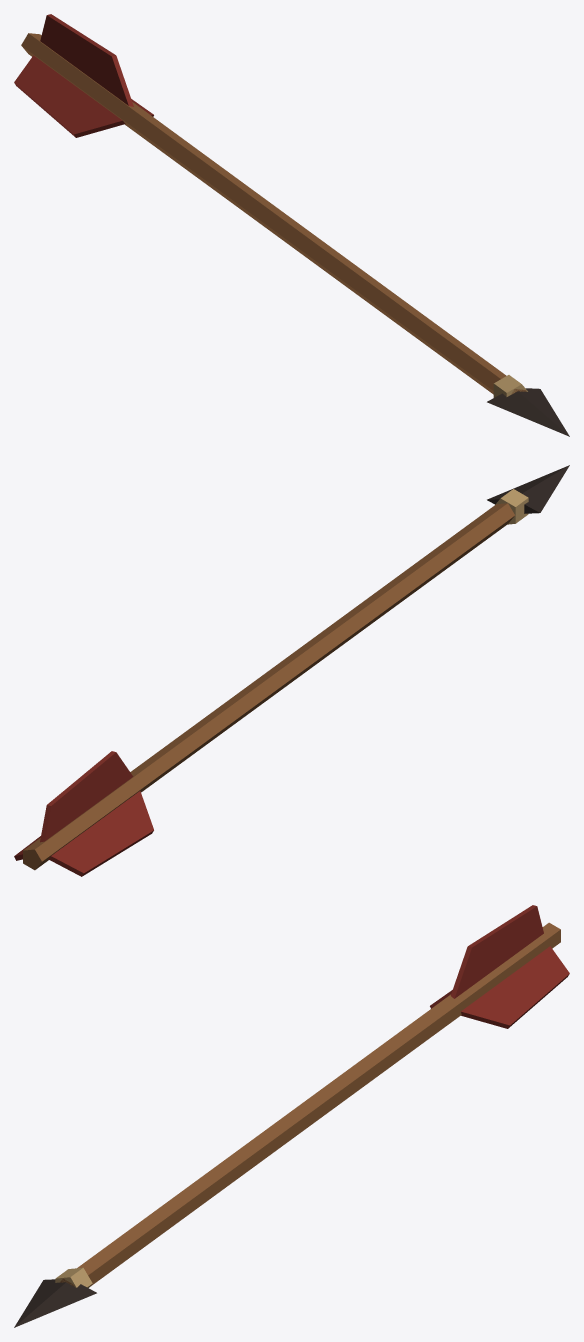
File: Gob_Arrow.fbx
The picture shows the model from 3 angles, top to bottom: view 1: azimuth 30°, elevation 25°; view 2: azimuth 150°, elevation 25°; view 3: azimuth 330°, elevation 25°; orthographic projection.
Visible parts, largest first — view 1: Gob_Arrow; view 2: Gob_Arrow; view 3: Gob_Arrow.
Part boxes in pixels (box(x1,y1,x2,y2)): Gob_Arrow: box(14, 14, 569, 436); Gob_Arrow: box(14, 465, 569, 876); Gob_Arrow: box(14, 905, 569, 1327).
Bounding box in the file's own units: 5.35 × 4.63 × 62.01.
